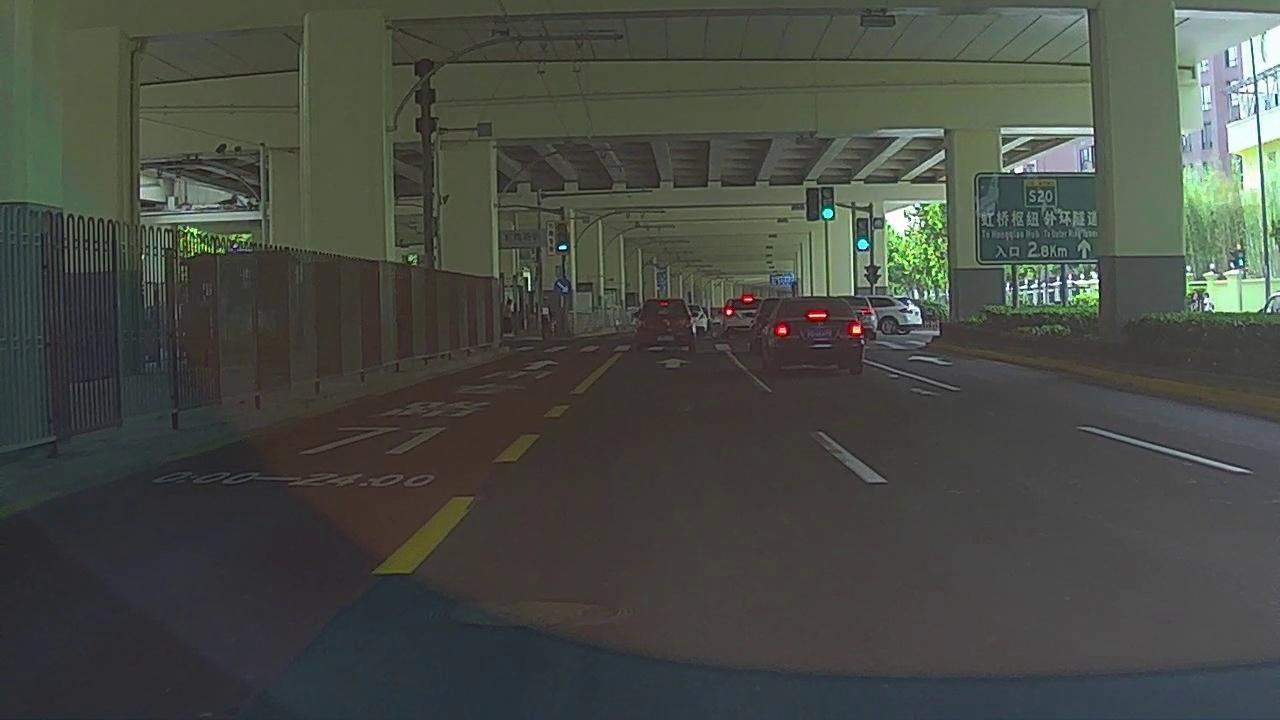traffic_light: (821, 187, 834, 221), (806, 188, 819, 221)
